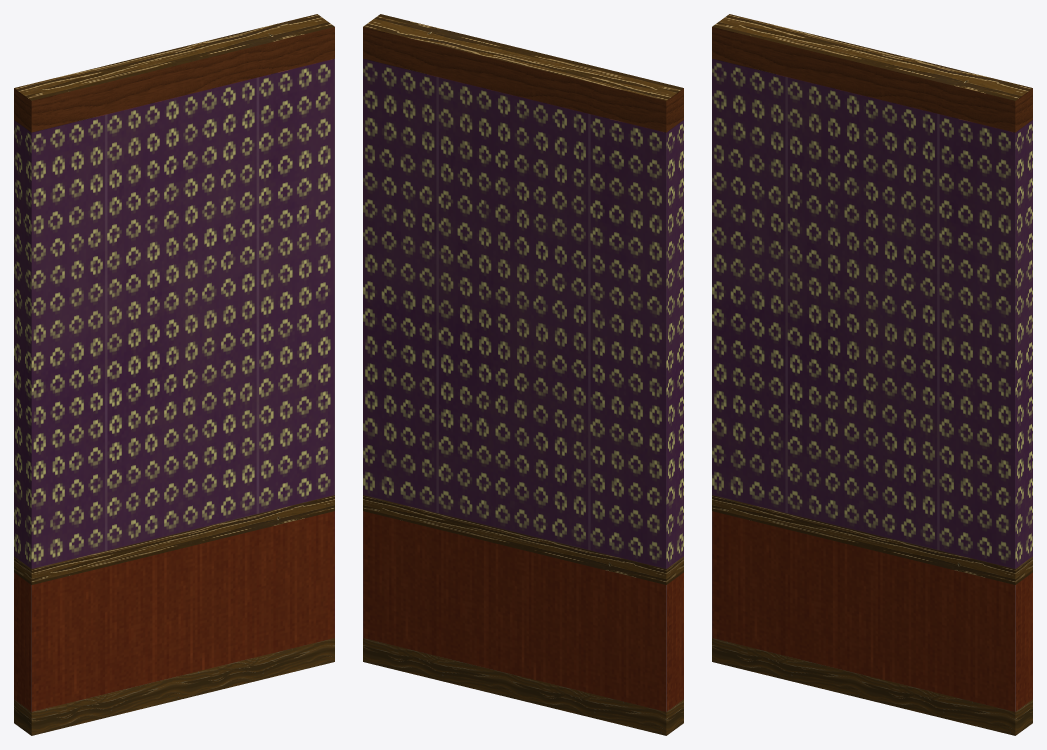
Rendered from SM_Wall_2m_Plaster.fbx.
3 renders of one model, left to right at view 1: azimuth 30°, elevation 25°; view 2: azimuth 150°, elevation 25°; view 3: azimuth 330°, elevation 25°, orthographic.
Visible parts, largest first — view 1: SM_Wall_2m_Plaster; view 2: SM_Wall_2m_Plaster; view 3: SM_Wall_2m_Plaster.
Part boxes in pixels (bbox=[...]): SM_Wall_2m_Plaster: bbox=[14, 14, 334, 735]; SM_Wall_2m_Plaster: bbox=[363, 14, 683, 735]; SM_Wall_2m_Plaster: bbox=[712, 14, 1032, 735].
Size of the model in its own units: 2 by 4 by 0.2.
